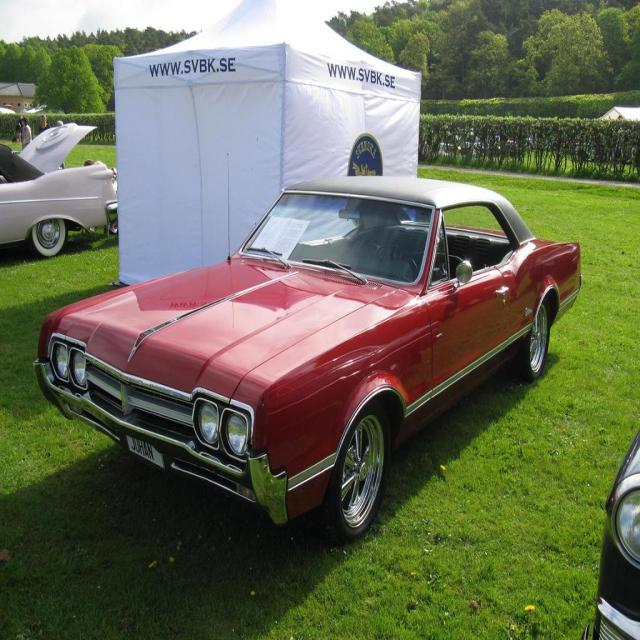car: (35, 152, 581, 548)
